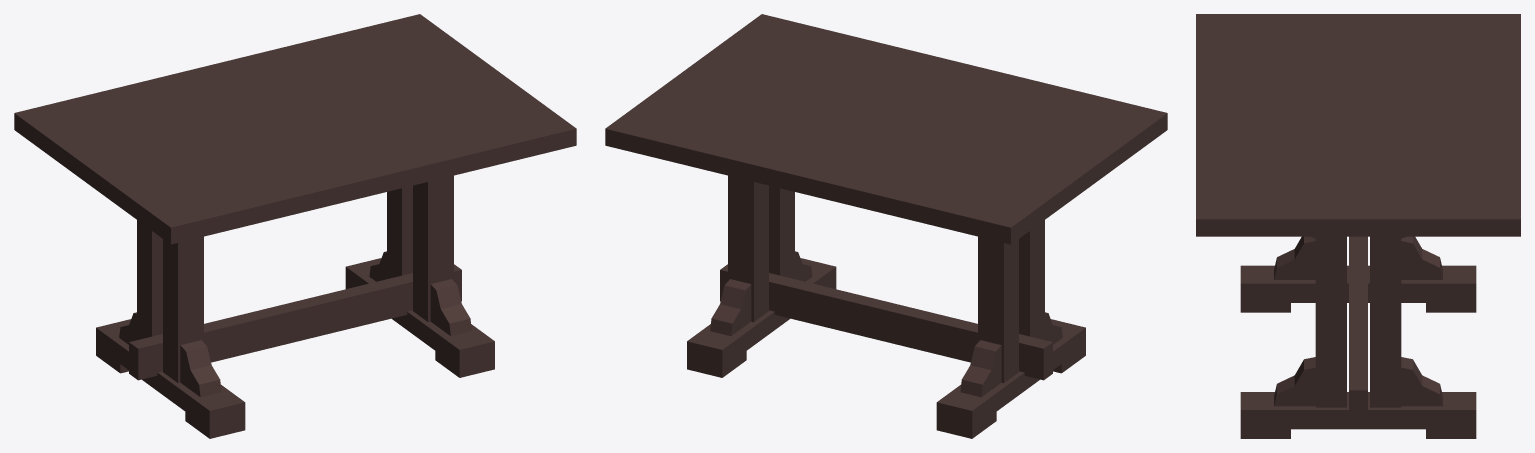
The model's file is table_2.fbx.
3 views of the same model, side by side, from view 1: azimuth 30°, elevation 25°; view 2: azimuth 150°, elevation 25°; view 3: azimuth 270°, elevation 25° (orthographic). The views are drawn at different scales.
Parts seen in each view (by area): view 1: Table; view 2: Table; view 3: Table.
Part boxes in pixels (left/top/right/bottom): Table: left=14, top=14, right=576, bottom=438; Table: left=605, top=14, right=1167, bottom=438; Table: left=1196, top=14, right=1520, bottom=438.
Bounding box in the file's own units: 373 × 212 × 250.
